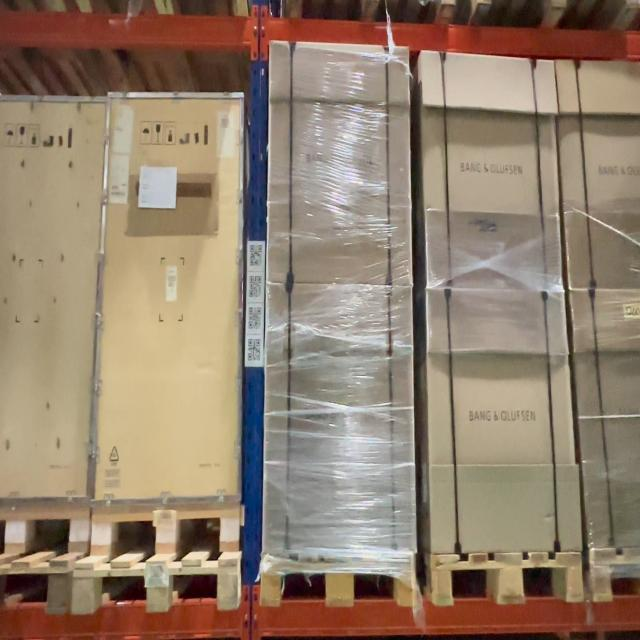box: (108, 92, 242, 502), (267, 285, 411, 551), (432, 292, 563, 554), (271, 47, 408, 281), (426, 61, 553, 285)
